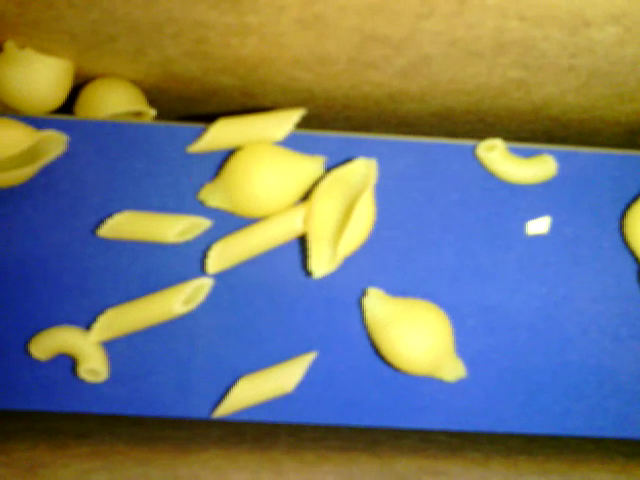elbow: (24, 323, 112, 385), (472, 137, 556, 188)
penne: (87, 277, 215, 343), (203, 200, 309, 279), (209, 348, 319, 422), (185, 105, 305, 151), (96, 208, 206, 242)
shell: (196, 142, 326, 225), (352, 288, 468, 378), (302, 156, 378, 282), (1, 33, 75, 117), (1, 115, 72, 195), (72, 74, 156, 126), (620, 188, 639, 266)
